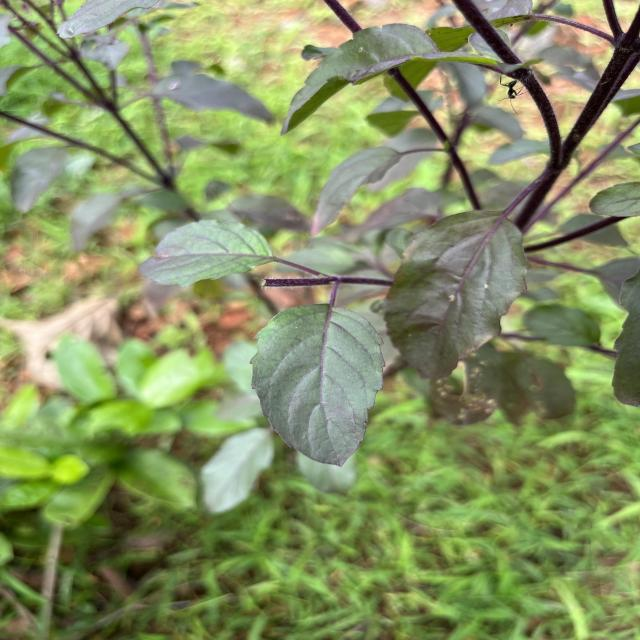Ocimum tenuiflorum: (243, 296, 389, 472)
